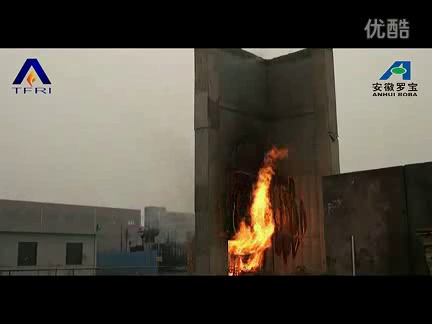fire: (220, 144, 294, 277)
